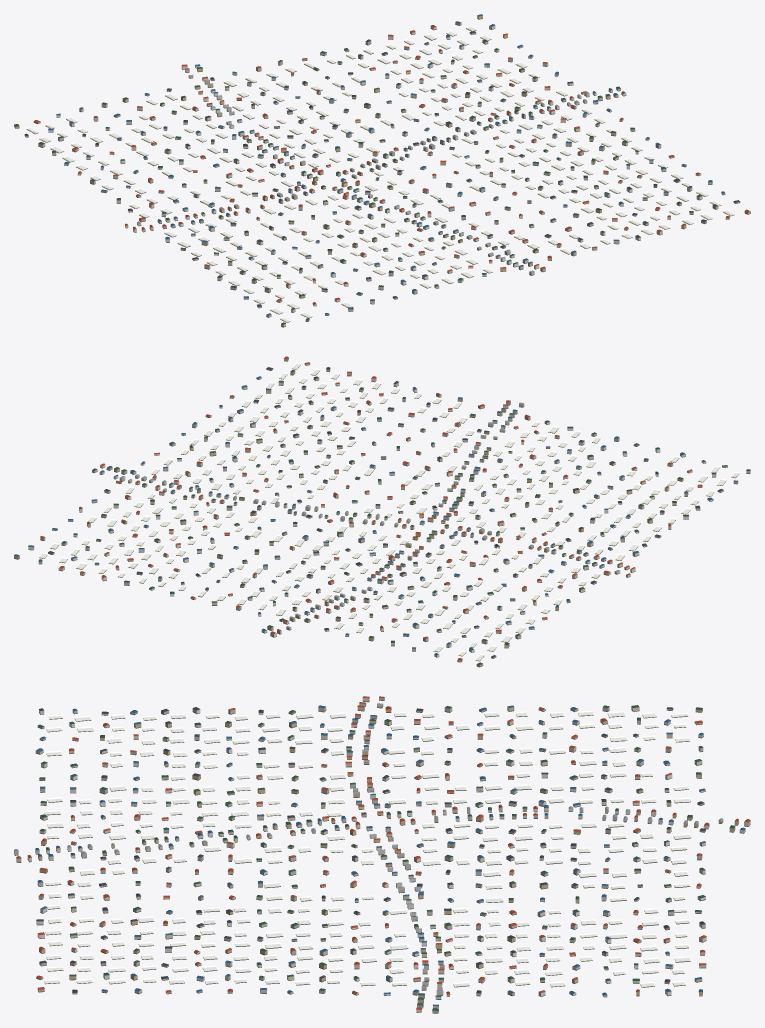
Rendered from buildings_T_W07_N02.glb.
3 renders of one model, top to bottom at view 1: azimuth 30°, elevation 25°; view 2: azimuth 150°, elevation 25°; view 3: azimuth 270°, elevation 25°, orthographic. The views are drawn at different scales.
Visible parts, largest first — view 1: T_W07_N02_roofs_agri_greenhouse_arch, T_W07_N02_slope_seating_foundations, T_W07_N02_walls_wall_dalat_cream_stucco, T_W07_N02_walls_wall_french_ochre_villa, T_W07_N02_walls_wall_pastel_sand_gray, T_W07_N02_walls_wall_modern_warm_white, T_W07_N02_roofs_roof_terracotta_gable, T_W07_N02_roofs_roof_pine_green_hip, T_W07_N02_roofs_roof_highland_blue_gable, T_W07_N02_roofs_roof_slate_French_villa_hip, T_W07_N02_roofs_roof_zinc_silver_gable; view 2: T_W07_N02_roofs_agri_greenhouse_arch, T_W07_N02_slope_seating_foundations, T_W07_N02_walls_wall_dalat_cream_stucco, T_W07_N02_walls_wall_french_ochre_villa, T_W07_N02_walls_wall_pastel_sand_gray, T_W07_N02_walls_wall_modern_warm_white, T_W07_N02_roofs_roof_terracotta_gable, T_W07_N02_roofs_roof_pine_green_hip, T_W07_N02_roofs_roof_highland_blue_gable, T_W07_N02_roofs_roof_slate_French_villa_hip, T_W07_N02_roofs_roof_zinc_silver_gable; view 3: T_W07_N02_roofs_agri_greenhouse_arch, T_W07_N02_slope_seating_foundations, T_W07_N02_walls_wall_dalat_cream_stucco, T_W07_N02_walls_wall_pastel_sand_gray, T_W07_N02_walls_wall_french_ochre_villa, T_W07_N02_walls_wall_modern_warm_white, T_W07_N02_roofs_roof_terracotta_gable, T_W07_N02_roofs_roof_pine_green_hip, T_W07_N02_roofs_roof_highland_blue_gable, T_W07_N02_roofs_roof_slate_French_villa_hip, T_W07_N02_roofs_roof_zinc_silver_gable.
Boxes of the visible parts, <box> form: T_W07_N02_roofs_agri_greenhouse_arch: <box>26,25,734,322</box>; T_W07_N02_slope_seating_foundations: <box>14,18,750,327</box>; T_W07_N02_walls_wall_dalat_cream_stucco: <box>24,31,712,327</box>; T_W07_N02_walls_wall_french_ochre_villa: <box>14,15,750,299</box>; T_W07_N02_walls_wall_pastel_sand_gray: <box>52,32,740,321</box>; T_W07_N02_walls_wall_modern_warm_white: <box>48,25,702,312</box>; T_W07_N02_roofs_roof_terracotta_gable: <box>34,25,749,304</box>; T_W07_N02_roofs_roof_pine_green_hip: <box>14,39,717,320</box>; T_W07_N02_roofs_roof_highland_blue_gable: <box>48,14,725,315</box>; T_W07_N02_roofs_roof_slate_French_villa_hip: <box>24,31,739,324</box>; T_W07_N02_roofs_roof_zinc_silver_gable: <box>137,74,589,272</box>; T_W07_N02_roofs_agri_greenhouse_arch: <box>39,362,739,660</box>; T_W07_N02_slope_seating_foundations: <box>14,360,750,667</box>; T_W07_N02_walls_wall_dalat_cream_stucco: <box>52,386,750,658</box>; T_W07_N02_walls_wall_french_ochre_villa: <box>14,358,688,666</box>; T_W07_N02_walls_wall_pastel_sand_gray: <box>48,363,738,651</box>; T_W07_N02_walls_wall_modern_warm_white: <box>28,377,723,656</box>; T_W07_N02_roofs_roof_terracotta_gable: <box>40,356,702,660</box>; T_W07_N02_roofs_roof_pine_green_hip: <box>61,370,727,665</box>; T_W07_N02_roofs_roof_highland_blue_gable: <box>14,376,737,655</box>; T_W07_N02_roofs_roof_slate_French_villa_hip: <box>48,367,750,657</box>; T_W07_N02_roofs_roof_zinc_silver_gable: <box>120,402,619,628</box>; T_W07_N02_roofs_agri_greenhouse_arch: <box>44,710,691,987</box>; T_W07_N02_slope_seating_foundations: <box>14,700,750,1013</box>; T_W07_N02_walls_wall_dalat_cream_stucco: <box>35,697,705,1008</box>; T_W07_N02_walls_wall_pastel_sand_gray: <box>14,707,738,1013</box>; T_W07_N02_walls_wall_french_ochre_villa: <box>37,706,735,1007</box>; T_W07_N02_walls_wall_modern_warm_white: <box>27,697,750,1012</box>; T_W07_N02_roofs_roof_terracotta_gable: <box>16,696,750,1009</box>; T_W07_N02_roofs_roof_pine_green_hip: <box>37,705,734,1010</box>; T_W07_N02_roofs_roof_highland_blue_gable: <box>35,705,745,1006</box>; T_W07_N02_roofs_roof_slate_French_villa_hip: <box>36,707,705,993</box>; T_W07_N02_roofs_roof_zinc_silver_gable: <box>14,703,722,991</box>.
Bounding box in the file's own units: 1915 × 32.49 × 1927.
